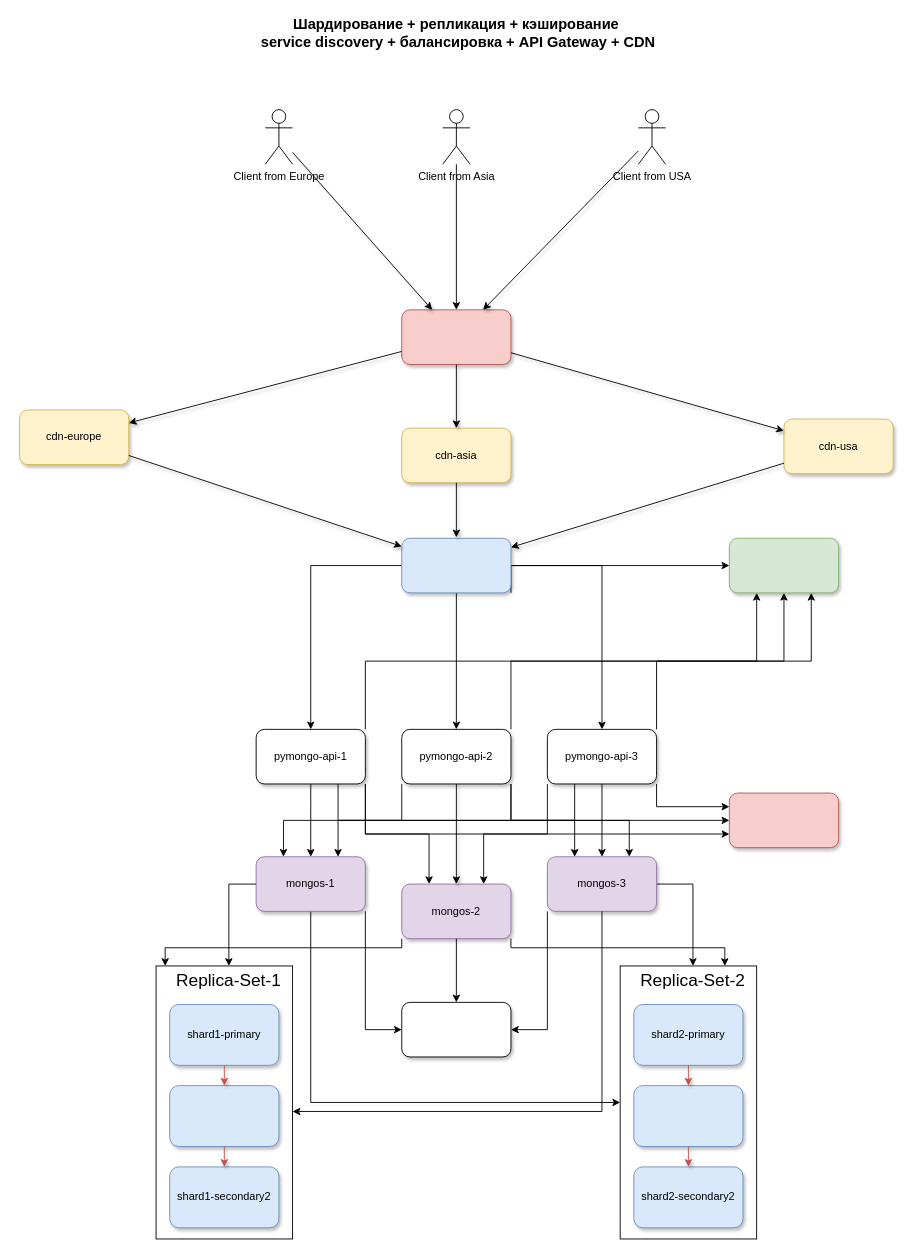
The diagram is 915 pixels wide and 1255 high, and some of its shapes have lost their labels. Here are the shapes that lost their labels. From the top down, the centre of each, then its label:
At point (456, 338): "global-load-balancer".
At point (456, 566): "API Gateway".
At point (784, 566): "consul".
At point (784, 821): "redis".
At point (456, 1030): "configsvr".
At point (224, 1117): "shard1-secondary1".
At point (688, 1117): "shard2-secondary1".
